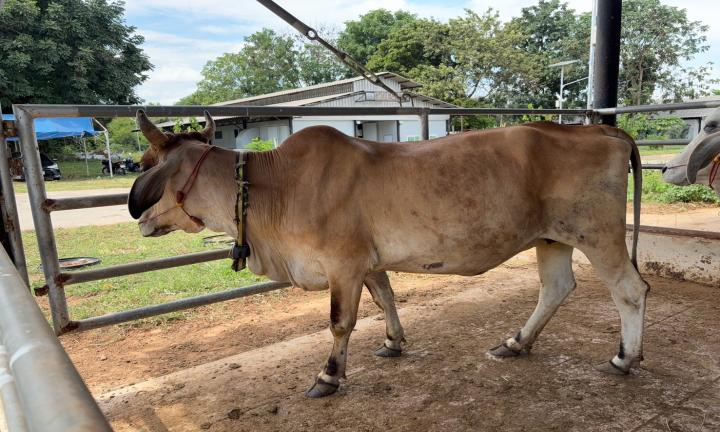Brahman: (128, 110, 648, 397)
